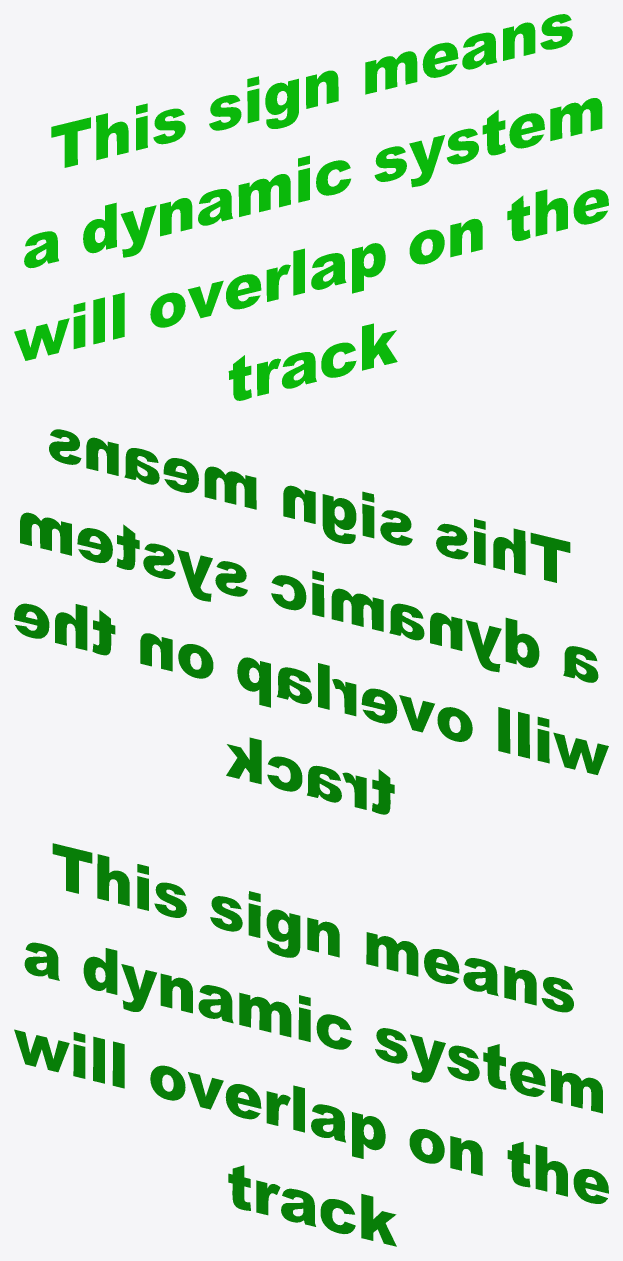
The model's file is tutorial_9.dae.
3 renders of one model, top to bottom at view 1: azimuth 30°, elevation 25°; view 2: azimuth 150°, elevation 25°; view 3: azimuth 330°, elevation 25°, orthographic.
Parts seen in each view (by area): view 1: This_sign_means__2 (×43); view 2: This_sign_means__2 (×44); view 3: This_sign_means__2 (×42).
Part boxes in pixels (left/top/right/bottom): This_sign_means__2 (×43): left=14, top=14, right=608, bottom=400; This_sign_means__2 (×44): left=14, top=429, right=608, bottom=814; This_sign_means__2 (×42): left=14, top=843, right=608, bottom=1246.
Bounding box in the file's own units: 2771 × 9.05 × 1421.
